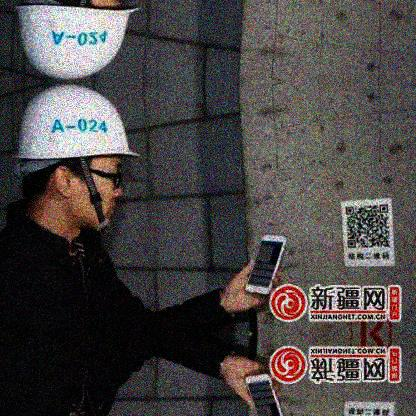helmet: (12, 85, 143, 231)
